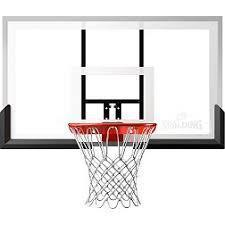rim: (69, 122, 157, 209)
